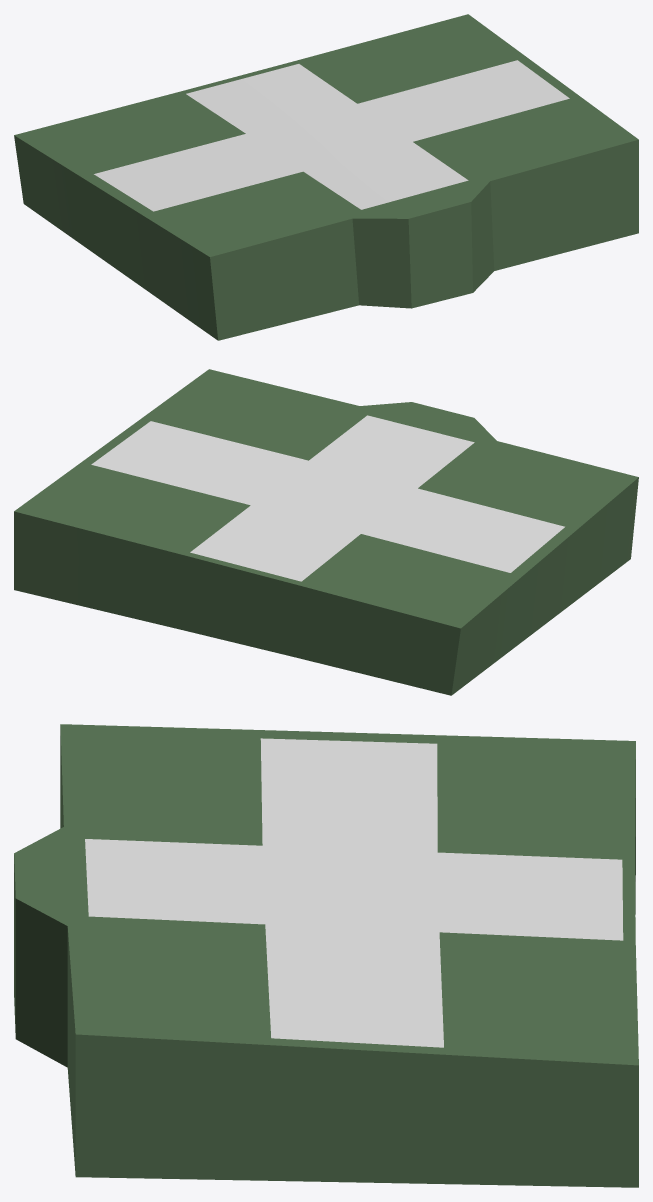
The model's file is First Aid.fbx.
The picture shows the model from 3 angles, top to bottom: view 1: azimuth 30°, elevation 25°; view 2: azimuth 150°, elevation 25°; view 3: azimuth 270°, elevation 25°; orthographic projection. The views are drawn at different scales.
Parts seen in each view (by area): view 1: FirstAid; view 2: FirstAid; view 3: FirstAid.
Boxes of the visible parts, left/top/right/bottom form: FirstAid: left=14, top=14, right=638, bottom=340; FirstAid: left=14, top=369, right=638, bottom=695; FirstAid: left=14, top=724, right=638, bottom=1187.
Size of the model in its own units: 1.23 by 0.2415 by 0.9582.
